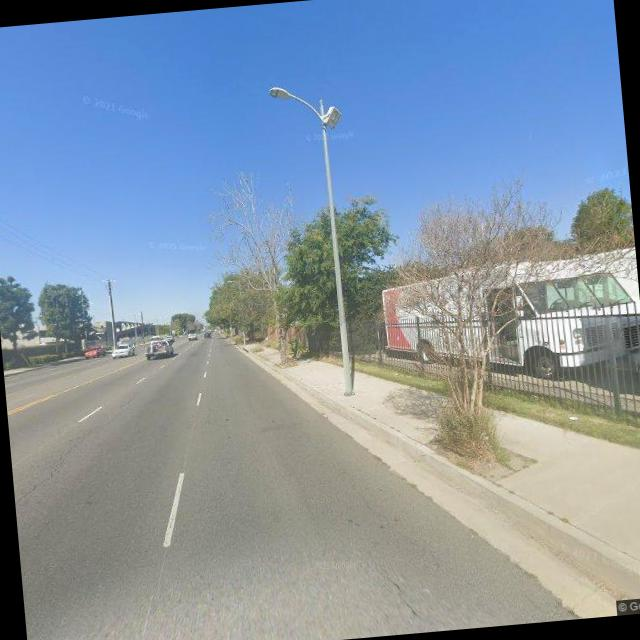crack: (12, 419, 112, 495)
